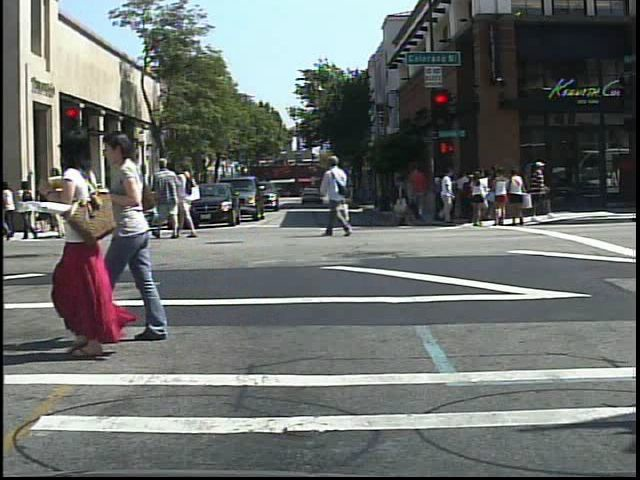person: (33, 128, 145, 363), (101, 127, 182, 342), (321, 150, 357, 243), (150, 155, 184, 241), (48, 166, 75, 245), (81, 168, 109, 242), (178, 160, 203, 241), (18, 175, 43, 244), (530, 158, 553, 222), (469, 171, 490, 231)
